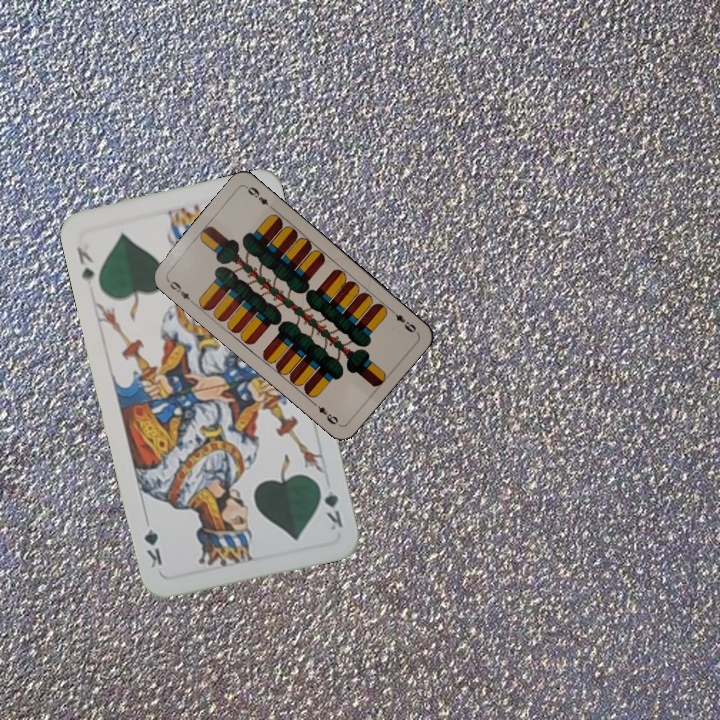E9: (386, 305, 420, 335), (163, 276, 197, 306)
GK: (314, 478, 346, 533), (72, 243, 97, 284)
